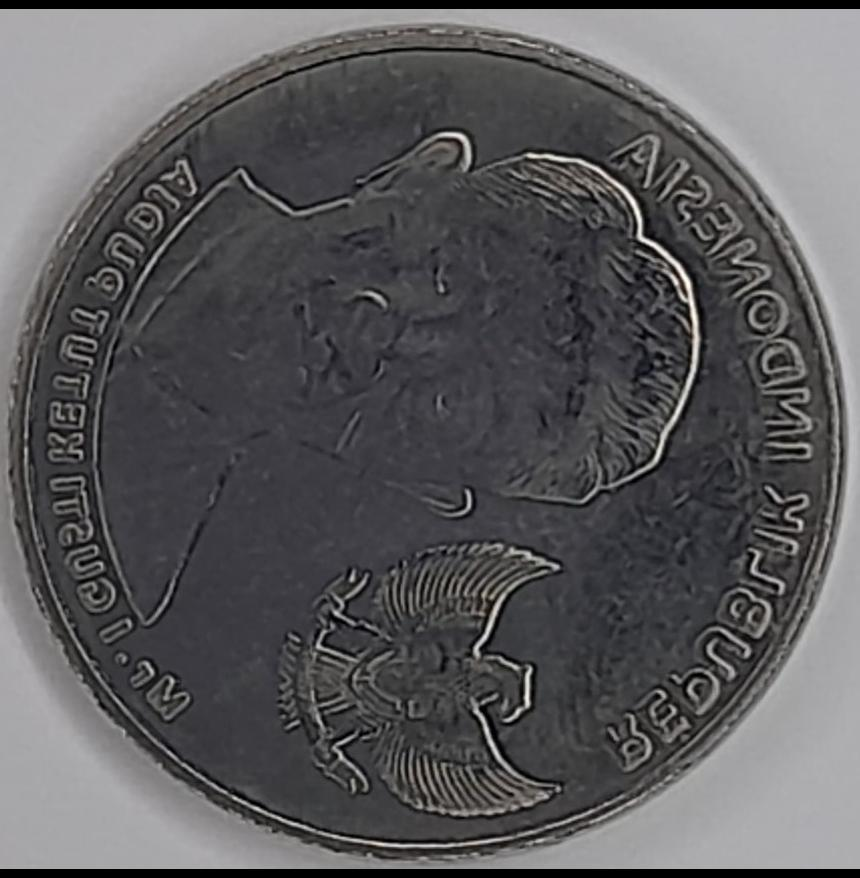coin_1000_e2016: (15, 17, 849, 878)
